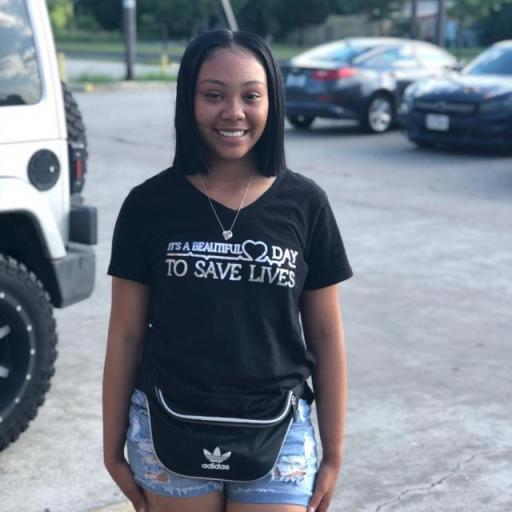Adidas: (199, 443, 232, 473)
